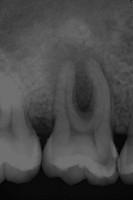Dental Caries: (41, 38, 109, 114)
